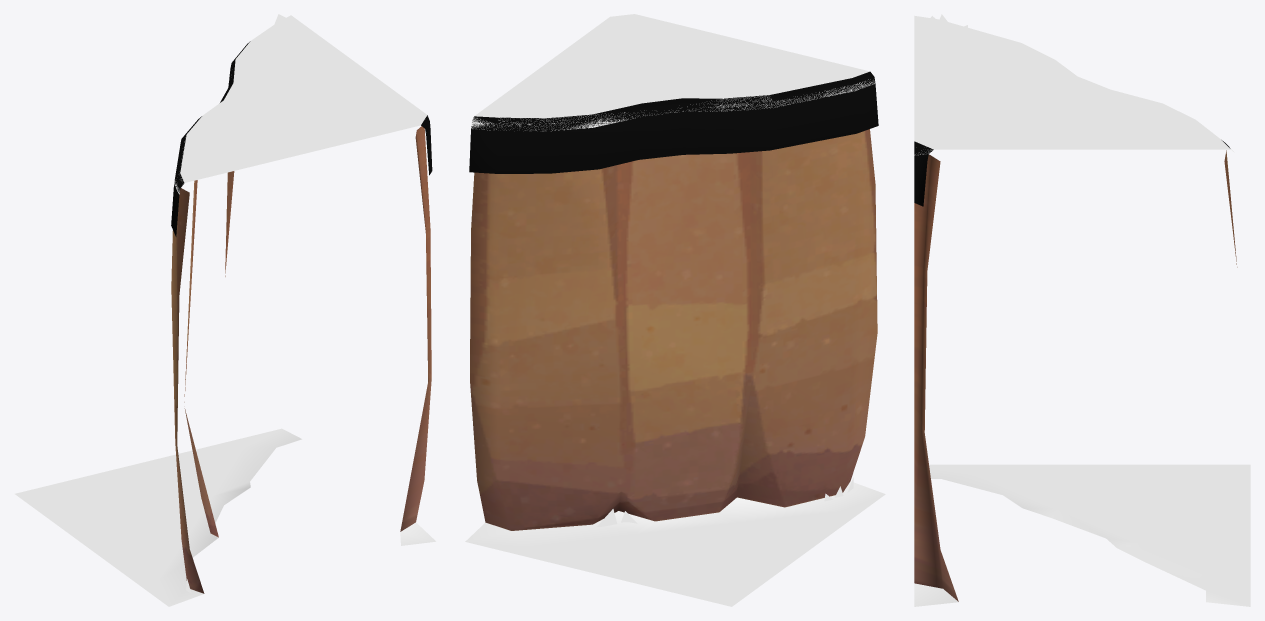
The picture shows the model from 3 angles, left to right: view 1: azimuth 30°, elevation 25°; view 2: azimuth 150°, elevation 25°; view 3: azimuth 270°, elevation 25°; orthographic projection. The views are drawn at different scales.
Visible parts, largest first — view 1: GrassT__mGrass, GrassB_1__mGrass, CliffThin2__mCliff, GrassOP_1__mGrassCliffXlu; view 2: CliffThin2__mCliff, GrassOP_1__mGrassCliffXlu, GrassT__mGrass, GrassB_1__mGrass; view 3: GrassT__mGrass, GrassB_1__mGrass, CliffThin2__mCliff, GrassOP_1__mGrassCliffXlu.
Boxes of the visible parts, x1,y1,x2,y2 form: GrassT__mGrass: (174,15,427,194); GrassB_1__mGrass: (15,428,435,606); CliffThin2__mCliff: (171,126,431,593); GrassOP_1__mGrassCliffXlu: (171,41,432,236); CliffThin2__mCliff: (470,129,877,530); GrassOP_1__mGrassCliffXlu: (469,71,878,173); GrassT__mGrass: (471,14,874,131); GrassB_1__mGrass: (465,481,885,606); GrassT__mGrass: (914,15,1234,155); GrassB_1__mGrass: (914,464,1250,606); CliffThin2__mCliff: (914,150,1237,601); GrassOP_1__mGrassCliffXlu: (914,140,1230,206).
Bounding box in the file's own units: 10 × 15.43 × 10.
4 materials, 1 textured.
